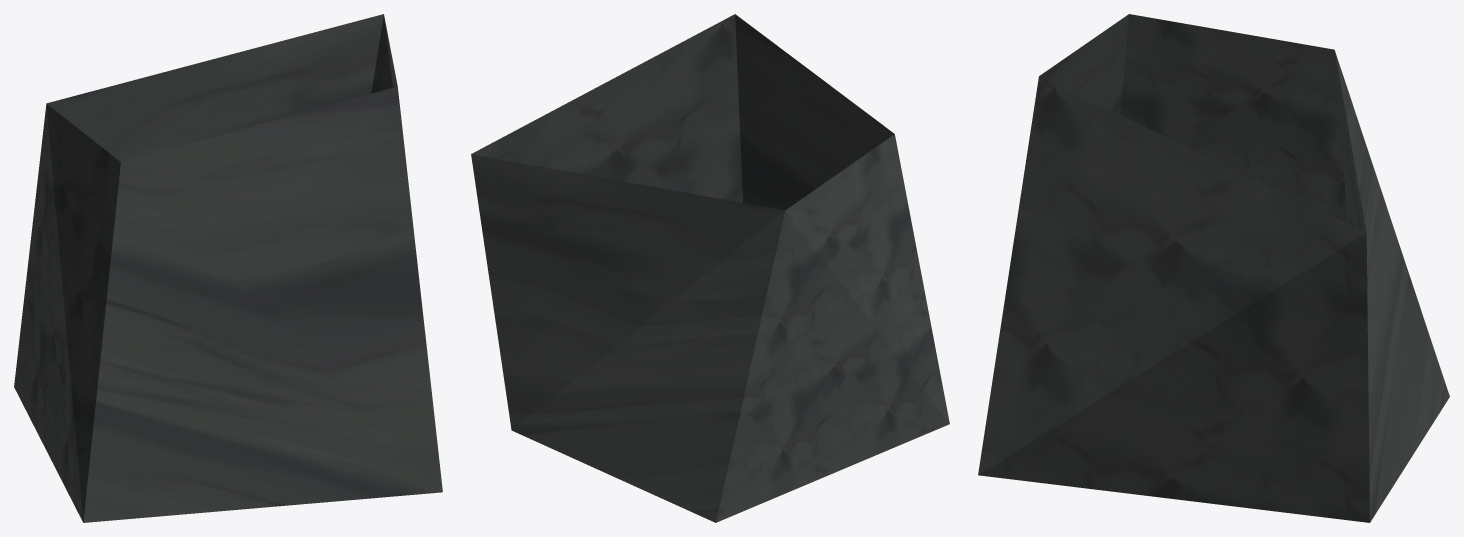
File: Ridge_5_1_Lat.gltf
3 views of the same model, side by side, from view 1: azimuth 30°, elevation 25°; view 2: azimuth 150°, elevation 25°; view 3: azimuth 270°, elevation 25° (orthographic). The views are drawn at different scales.
Parts seen in each view (by area): view 1: Ridge_5_1_Lat; view 2: Ridge_5_1_Lat; view 3: Ridge_5_1_Lat.
Part boxes in pixels (box(x1,y1,x2,y2)): Ridge_5_1_Lat: box(14, 14, 442, 522); Ridge_5_1_Lat: box(471, 14, 949, 522); Ridge_5_1_Lat: box(978, 14, 1449, 522).
Size of the model in its own units: 22.14 by 19.86 by 20.74.
Materials: 1 (1 with a texture image).
